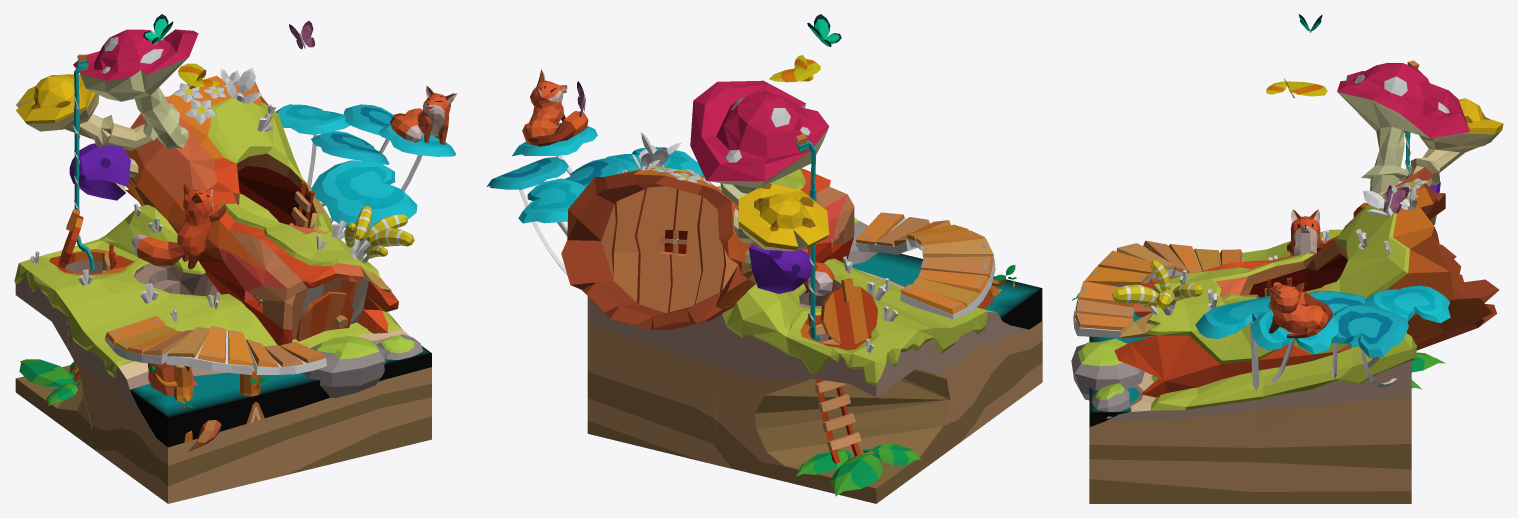
The model's file is 0006_foxPlayGround.fbx.
3 renders of one model, left to right at view 1: azimuth 30°, elevation 25°; view 2: azimuth 150°, elevation 25°; view 3: azimuth 270°, elevation 25°, orthographic. The views are drawn at different scales.
Parts seen in each view (by area): view 1: floor_leftFront, house_part1, house_part2, floor_left, floor_right, [water], mushroom_red, bigLeaf (×3), mushroom_yellow, stone (×2), mushroom_purple, bigLeaf_darken (×2) (+18 smaller); view 2: floor_left, house_part2, floor_right, floor_leftFront, mushroom_red, mushroom_yellow, bigLeaf (×3), bridge_board001, [water], house_part1, underground_leaves (×3), underground_door (+8 smaller); view 3: floor_right, house_part2, house_part1, mushroom_red, bigLeaf (×3), bigLeaf_darken (×2), stone (×2), mushroom_yellow, bridge_board002, bridge_board003, bridge_board001, smilingFox_body_front (+8 smaller).
Part boxes in pixels (x1,y1,x2,y2): floor_leftFront: [67, 282, 301, 503]; house_part1: [198, 186, 398, 345]; house_part2: [125, 75, 311, 233]; floor_left: [14, 205, 208, 447]; floor_right: [205, 194, 431, 475]; [water]: [130, 344, 431, 447]; mushroom_red: [73, 29, 198, 149]; bigLeaf (×3): [276, 104, 455, 229]; mushroom_yellow: [15, 74, 151, 150]; stone (×2): [302, 334, 423, 397]; mushroom_purple: [69, 143, 138, 200]; bigLeaf_darken (×2): [311, 104, 393, 164]; floor_left: [713, 283, 959, 503]; house_part2: [561, 166, 756, 329]; floor_right: [587, 270, 859, 468]; floor_leftFront: [809, 258, 1042, 442]; mushroom_red: [690, 80, 829, 207]; mushroom_yellow: [734, 184, 829, 250]; bigLeaf (×3): [512, 123, 704, 223]; bridge_board001: [900, 256, 993, 314]; [water]: [852, 252, 1042, 329]; house_part1: [664, 168, 854, 293]; underground_leaves (×3): [796, 444, 921, 496]; underground_door: [820, 278, 877, 344]; floor_right: [1089, 281, 1416, 503]; house_part2: [1303, 167, 1499, 360]; house_part1: [1114, 253, 1314, 397]; mushroom_red: [1337, 63, 1469, 195]; bigLeaf (×3): [1195, 285, 1450, 354]; bigLeaf_darken (×2): [1308, 291, 1408, 357]; stone (×2): [1071, 338, 1144, 418]; mushroom_yellow: [1408, 98, 1503, 186]; bridge_board002: [1084, 243, 1174, 285]; bridge_board003: [1075, 281, 1134, 330]; bridge_board001: [1143, 240, 1242, 273]; smilingFox_body_front: [1268, 281, 1306, 333].
Bounding box in the file's own units: 12.13 × 11.68 × 11.24.
